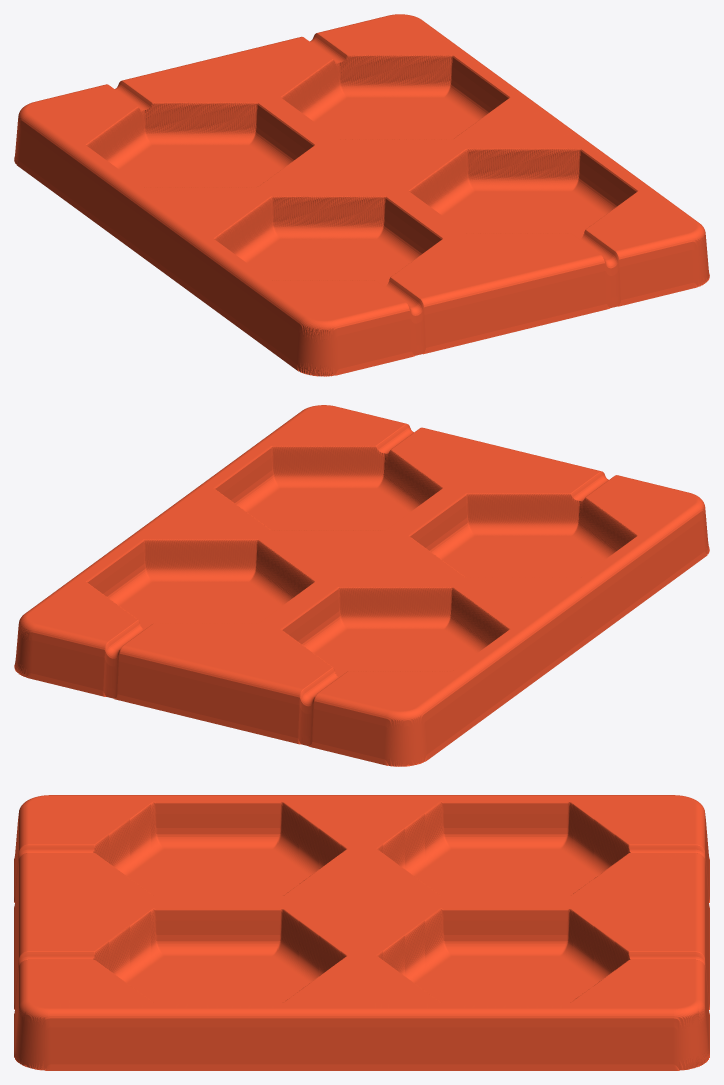
Rendered from mold.glb.
3 views of the same model, one above another, from view 1: azimuth 30°, elevation 25°; view 2: azimuth 150°, elevation 25°; view 3: azimuth 270°, elevation 25° (orthographic). The views are drawn at different scales.
Visible parts, largest first — view 1: geometry_0; view 2: geometry_0; view 3: geometry_0.
Part boxes in pixels (x1,y1,x2,y2): geometry_0: (14, 14, 709, 376); geometry_0: (14, 405, 709, 766); geometry_0: (14, 795, 709, 1070).
Bounding box in the file's own units: 0.1324 × 0.0155 × 0.1735.
